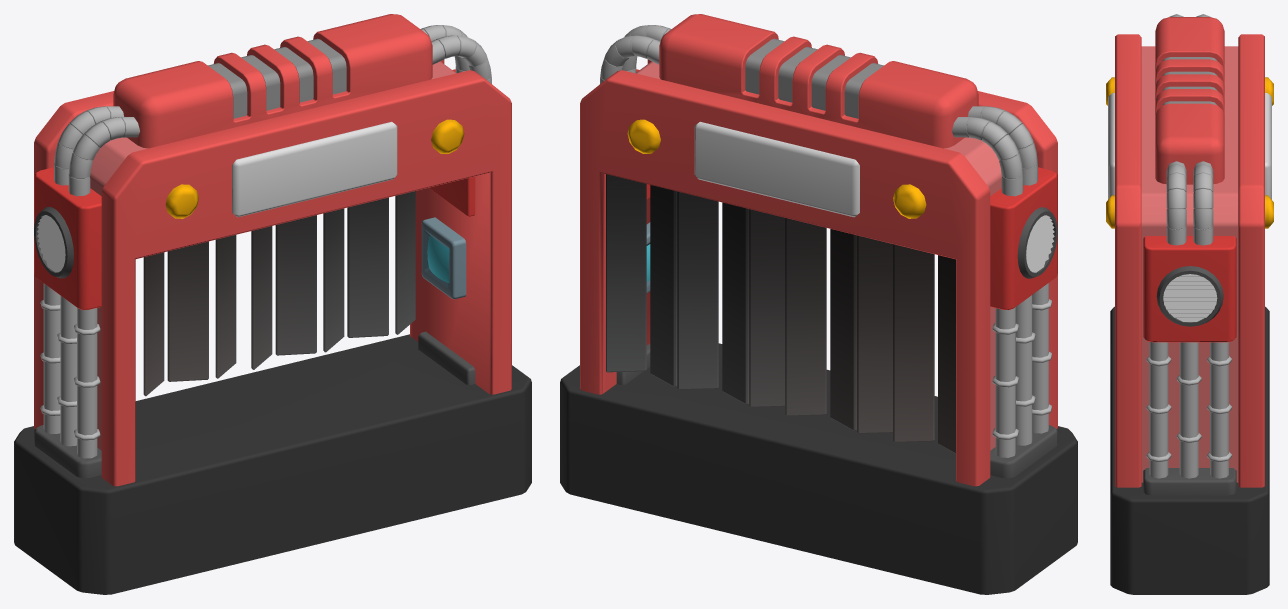
Rendered from arc_001.fbx.
3 views of the same model, side by side, from view 1: azimuth 30°, elevation 25°; view 2: azimuth 150°, elevation 25°; view 3: azimuth 270°, elevation 25° (orthographic). The views are drawn at different scales.
Parts seen in each view (by area): view 1: arc_001; view 2: arc_001; view 3: arc_001.
Part boxes in pixels (x1,y1,x2,y2): arc_001: (14,14,531,594); arc_001: (560,14,1077,594); arc_001: (1106,14,1273,594).
Size of the model in its own units: 1593 by 559 by 1533.
